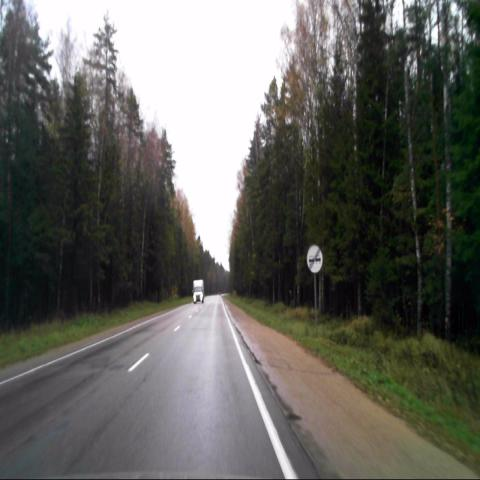3_21: (306, 243, 324, 274)
